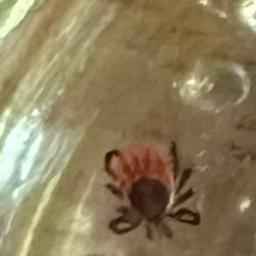Ixodes scapularis: (101, 142, 202, 235)
